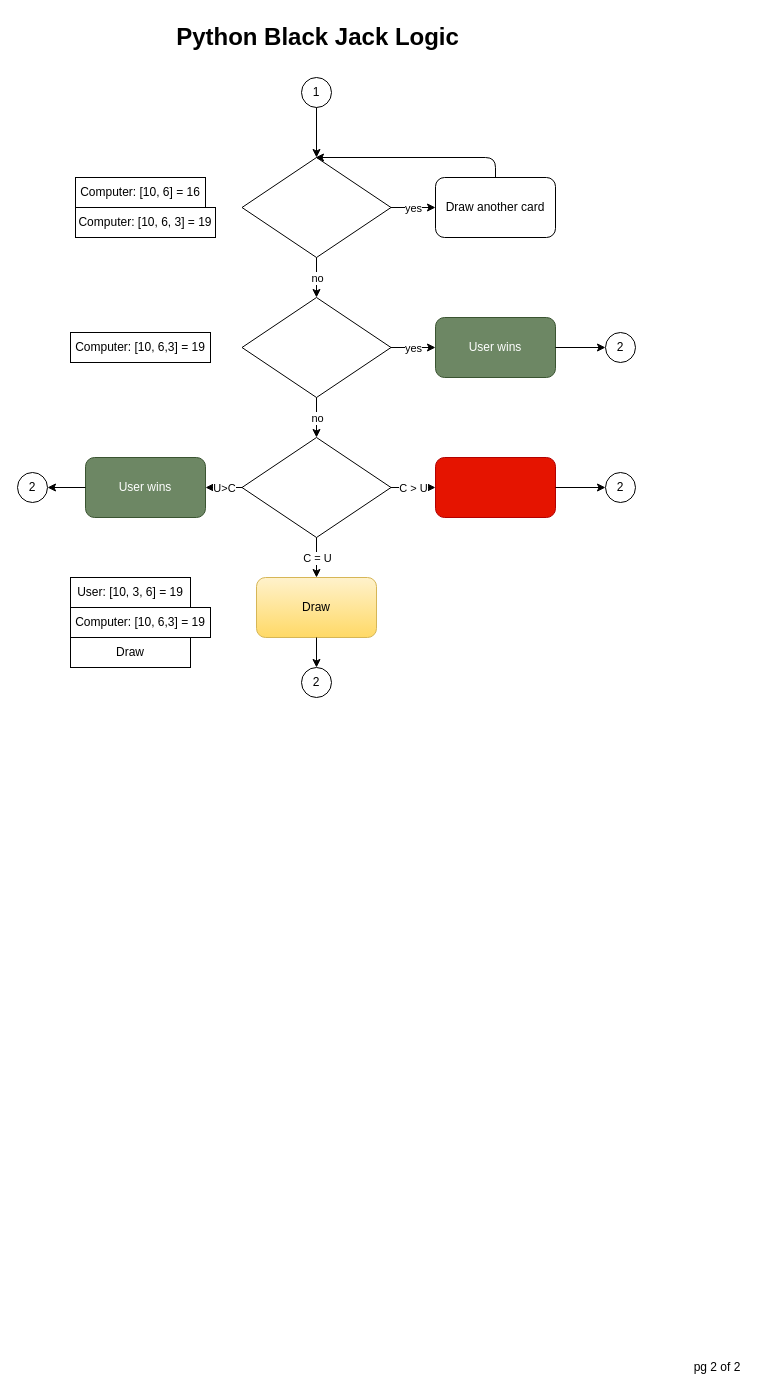
The diagram is 775 pixels wide and 1394 high, and some of its shapes have lost their labels. The centre of each missing label's shape, as x and y in pixels:
"Compare computer score to user score" belongs at point 316,487.
"Computer score <= 16?" belongs at point 316,207.
"Computer score >21?" belongs at point 316,347.
"Computer wins" belongs at point 495,487.
